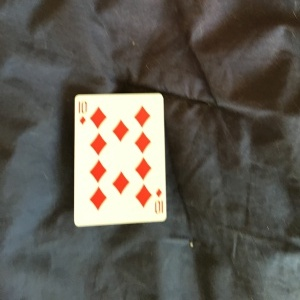card: (74, 91, 169, 225)
